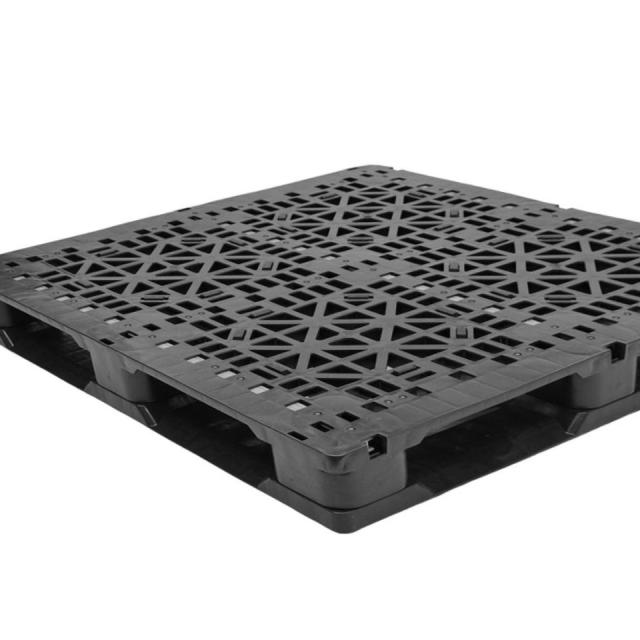non-igps: (0, 152, 640, 541)
